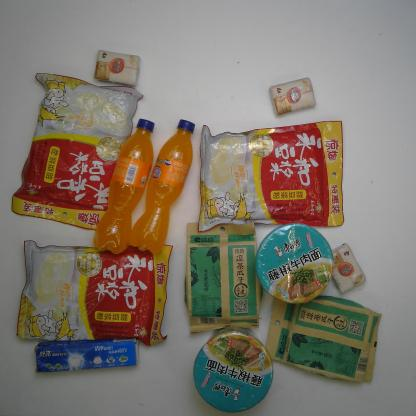Dried Food: (265, 288, 382, 383), (183, 222, 264, 336)
Drink: (129, 119, 196, 255), (91, 118, 155, 254)
Instant Drink: (11, 72, 144, 231), (15, 240, 173, 346), (198, 120, 344, 232)
Instant Noodles: (193, 327, 274, 412), (256, 222, 335, 304)
Personal Hygiene: (34, 338, 139, 374)
Tissue: (323, 241, 367, 295), (93, 48, 141, 88), (269, 77, 317, 116)
